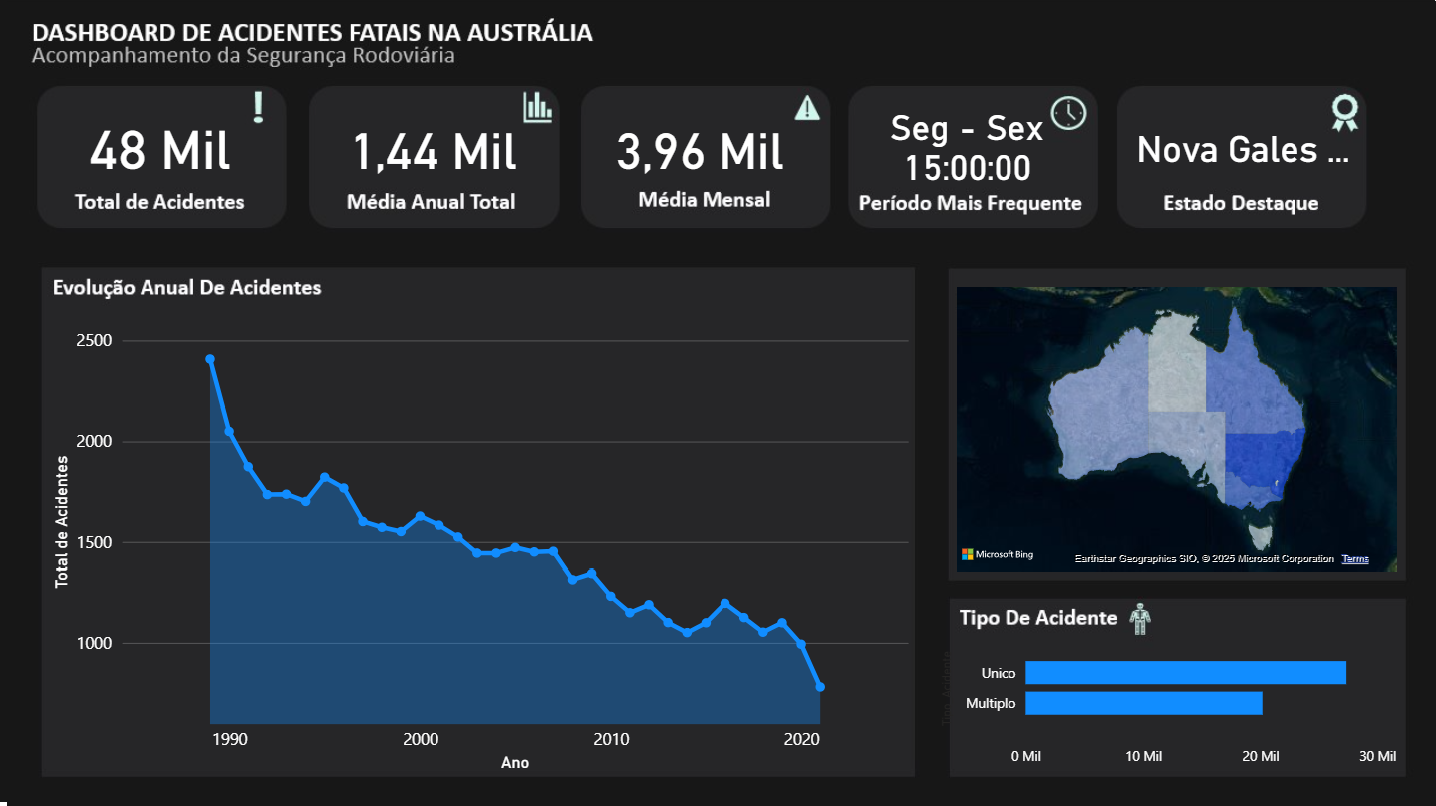

What the dashboard file says about the page in this screenshot:
{"tool":"powerbi","page":{"name":"Página 1","canvas":[1280,720],"ordinal":0},"visuals":[{"type":"card","fields":{"Values":["dataset_limpo1.Total de Acidentes"]},"box":[43,83.6,194,87.1],"z":0},{"type":"card","fields":{"Values":["dataset_limpo1.Média Anual de Acidentes"]},"box":[298.5,96.4,167.3,65],"z":1000},{"type":"card","fields":{"Values":["dataset_limpo1.Estado com Mais Acidentes"]},"box":[995.4,83.6,214.9,91.8],"z":2000},{"type":"stackedAreaChart","fields":{"Category":["dataset_limpo1.Ano"],"Y":["dataset_limpo1.Total de Acidentes"]},"box":[43,273,773.6,412.3],"z":3000},{"type":"filledMap","fields":{"Category":["dataset_limpo1.Estado"]},"box":[843.3,248.6,401.9,261.3],"z":4000},{"type":"barChart","fields":{"Category":["dataset_limpo1.Tipo_Acidente"],"Y":["dataset_limpo1.Total de Acidentes"]},"box":[829.3,545.9,415.8,139.4],"z":5000},{"type":"card","fields":{"Values":["dataset_limpo1.Média Mensal de Acidentes"]},"box":[527.3,96.4,184.7,65],"z":6000},{"type":"card","fields":{"Values":["dataset_limpo1.Período Mais Frequente"]},"box":[767.8,75.5,180,105.7],"z":7000}]}

Visuals, with their boxes in screenshot pixels (x1, y1, x2, y2), scaled from the page's 1280x720 canvas onto the 1436x806 screenshot:
card - dataset_limpo1.Total de Acidentes: region(48, 94, 266, 191)
card - dataset_limpo1.Média Anual de Acidentes: region(335, 108, 523, 181)
card - dataset_limpo1.Estado com Mais Acidentes: region(1117, 94, 1358, 196)
stackedAreaChart - dataset_limpo1.Ano x dataset_limpo1.Total de Acidentes: region(48, 306, 916, 767)
filledMap - dataset_limpo1.Estado: region(946, 278, 1397, 571)
barChart - dataset_limpo1.Tipo_Acidente x dataset_limpo1.Total de Acidentes: region(930, 611, 1397, 767)
card - dataset_limpo1.Média Mensal de Acidentes: region(592, 108, 799, 181)
card - dataset_limpo1.Período Mais Frequente: region(861, 85, 1063, 203)
